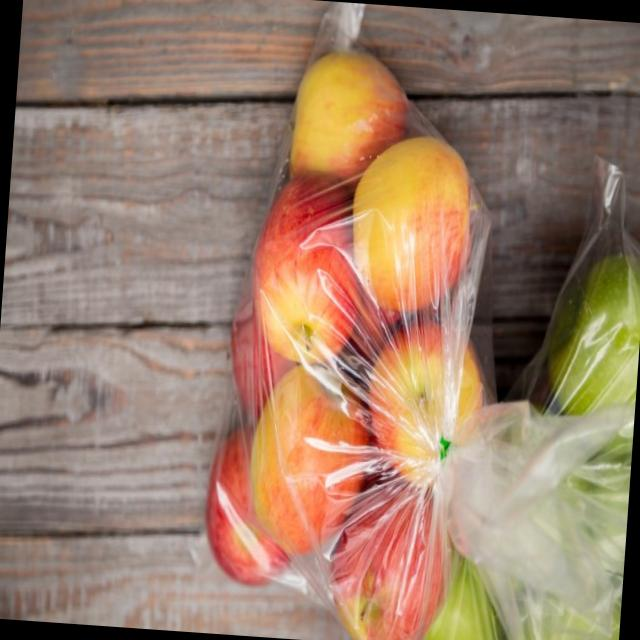apple_fruit: (348, 131, 472, 306)
plastic_bag: (172, 0, 512, 640)
